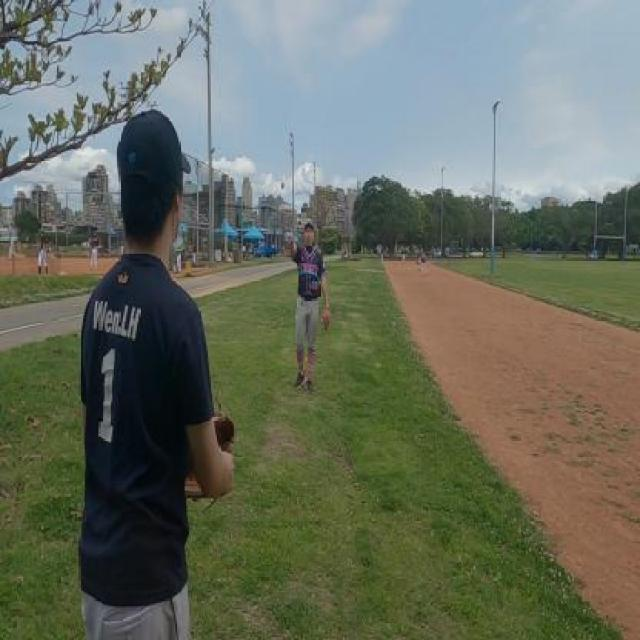baseball: (280, 182, 285, 189)
